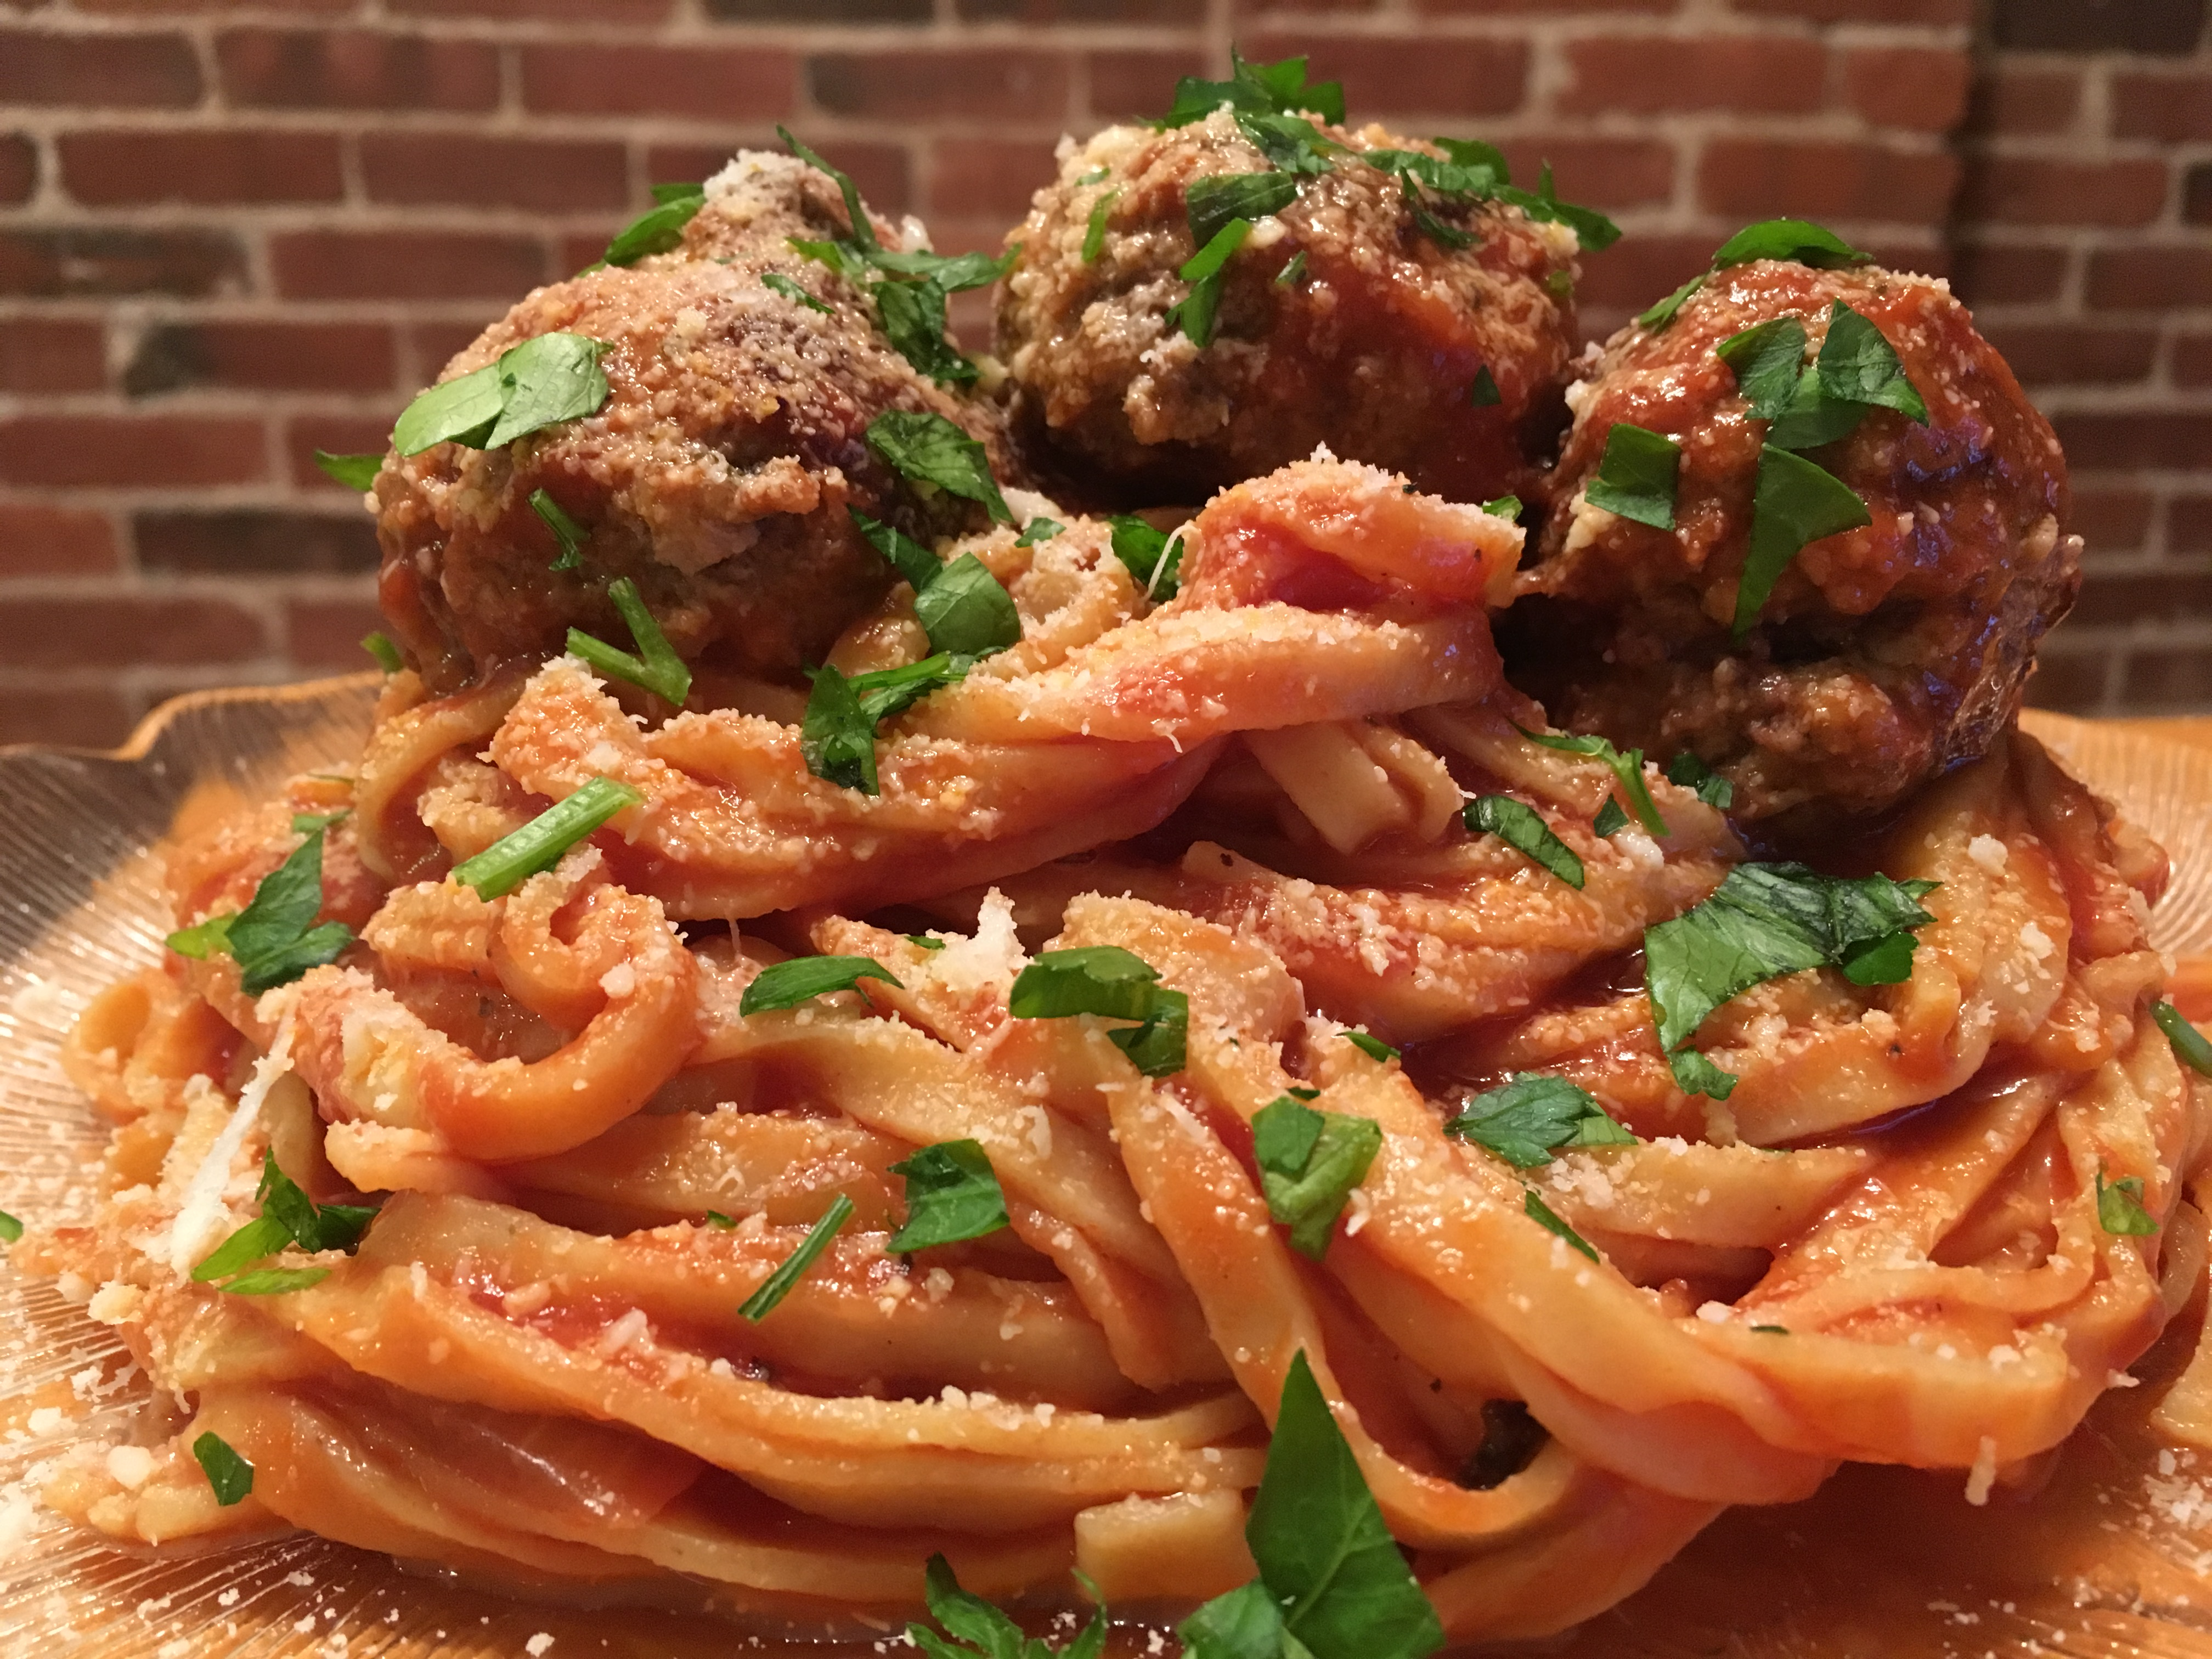meatballs: (1531, 227, 2041, 850), (366, 213, 977, 702), (998, 82, 1571, 505)
plain spaghetti: (230, 720, 2181, 1659)
